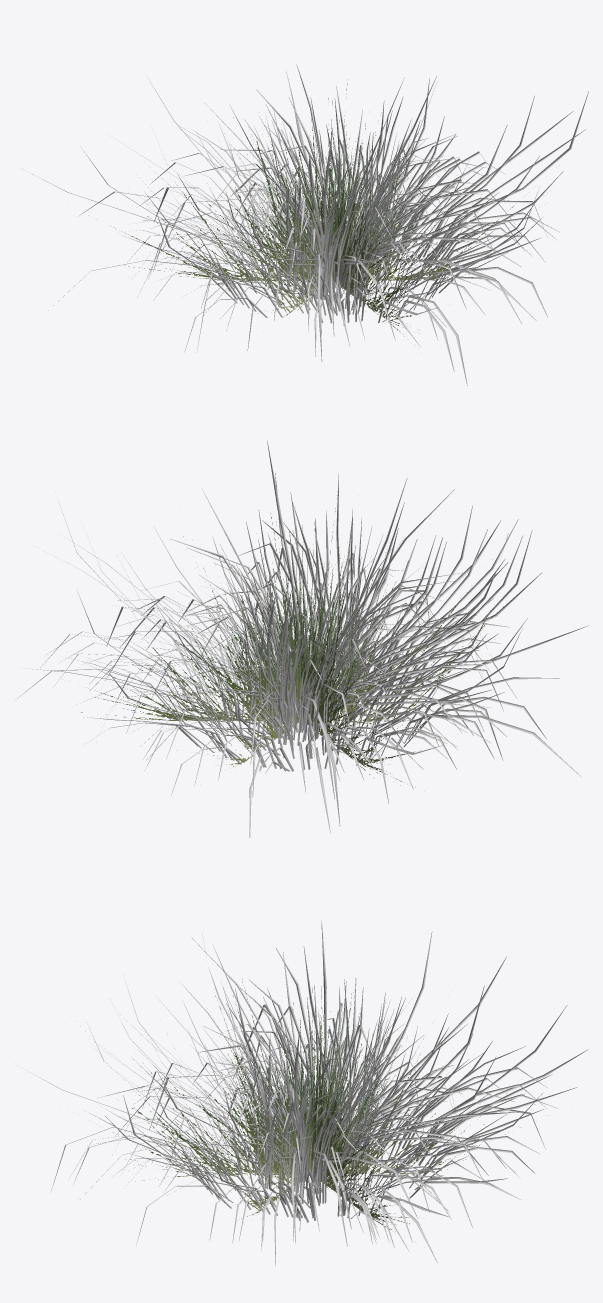
File: PW_Grass_Bush_4.fbx
The picture shows the model from 3 angles, top to bottom: view 1: azimuth 30°, elevation 25°; view 2: azimuth 150°, elevation 25°; view 3: azimuth 270°, elevation 25°; orthographic projection. The views are drawn at different scales.
Visible parts, largest first — view 1: LOD0, Billboard; view 2: LOD0, Billboard; view 3: LOD0, Billboard.
Boxes of the visible parts, x1,y1,x2,y2 form: LOD0: (21, 64, 588, 385); Billboard: (88, 79, 550, 336); LOD0: (17, 440, 588, 837); Billboard: (62, 491, 503, 787); LOD0: (25, 920, 588, 1265); Billboard: (113, 979, 535, 1231).
Size of what is drawn, in the model's own units: 103 by 43.98 by 95.82.
